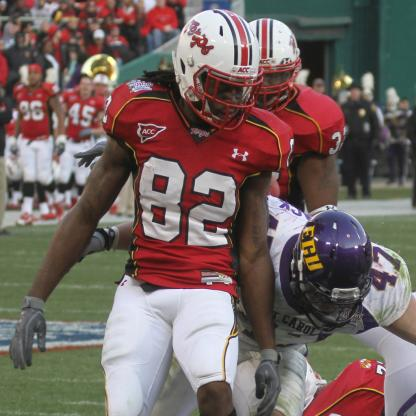Helmet: (171, 8, 264, 132), (289, 198, 370, 325), (242, 10, 298, 121)
